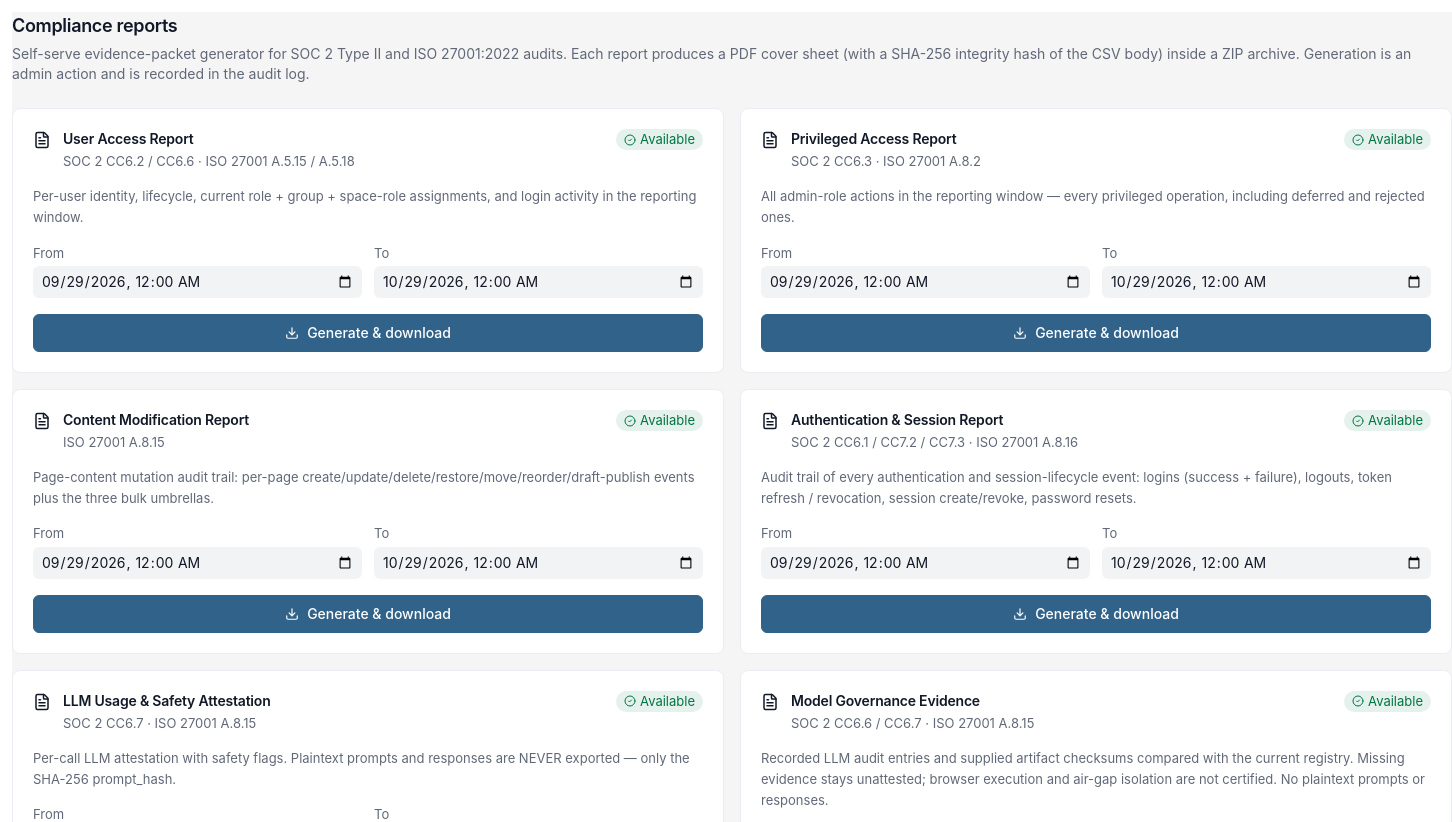
Test: ComplianceReportsTab › rejects ranges where from >= to with an inline validation message
Replace the text in the field with test id "from-user_access" with "2026-04-20T00:00" at [198, 282], box [33,266,362,298]
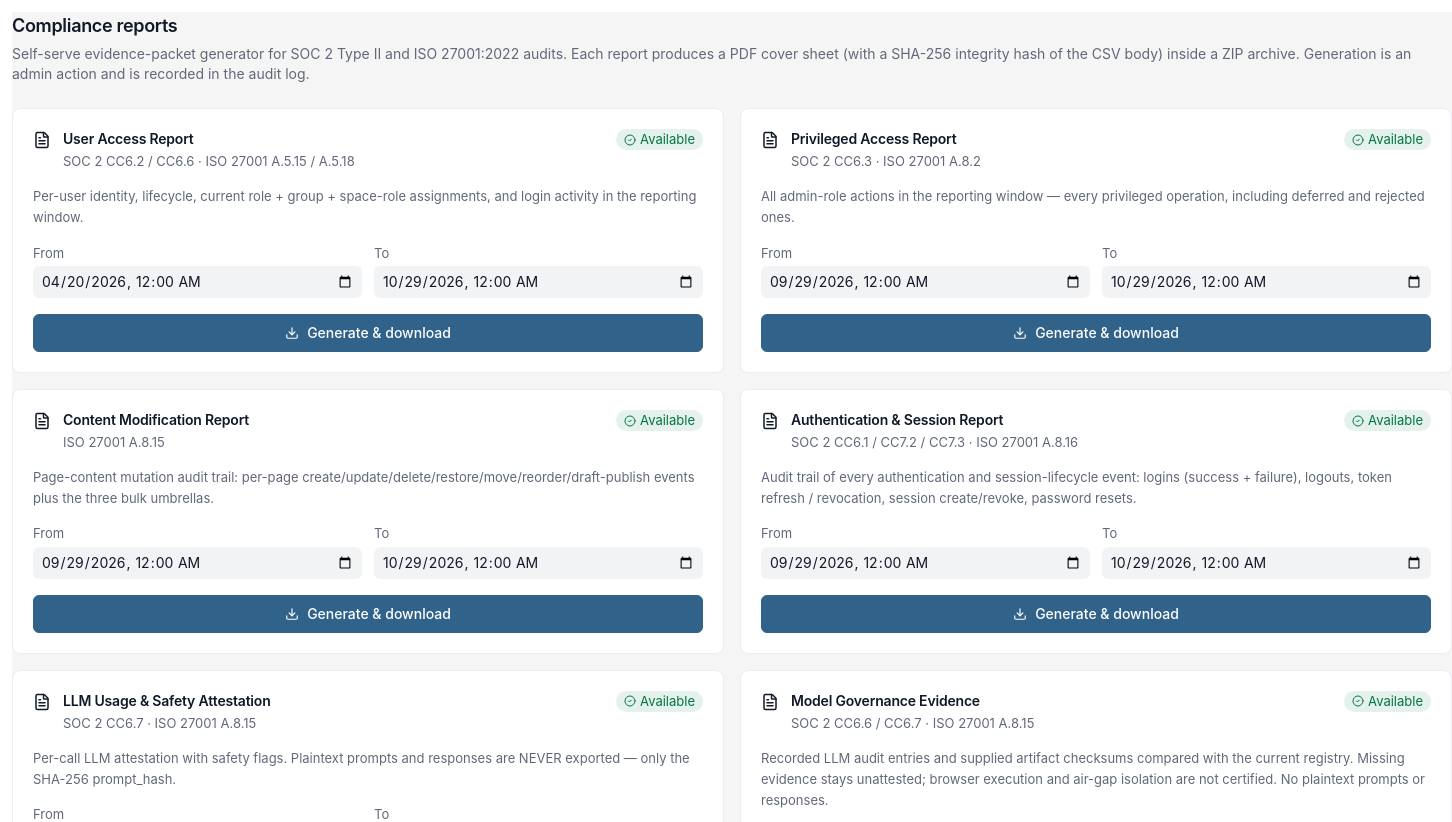
Replace the text in the field with test id "to-user_access" with "2026-04-10T00:00" at [538, 282], box [374,266,703,298]
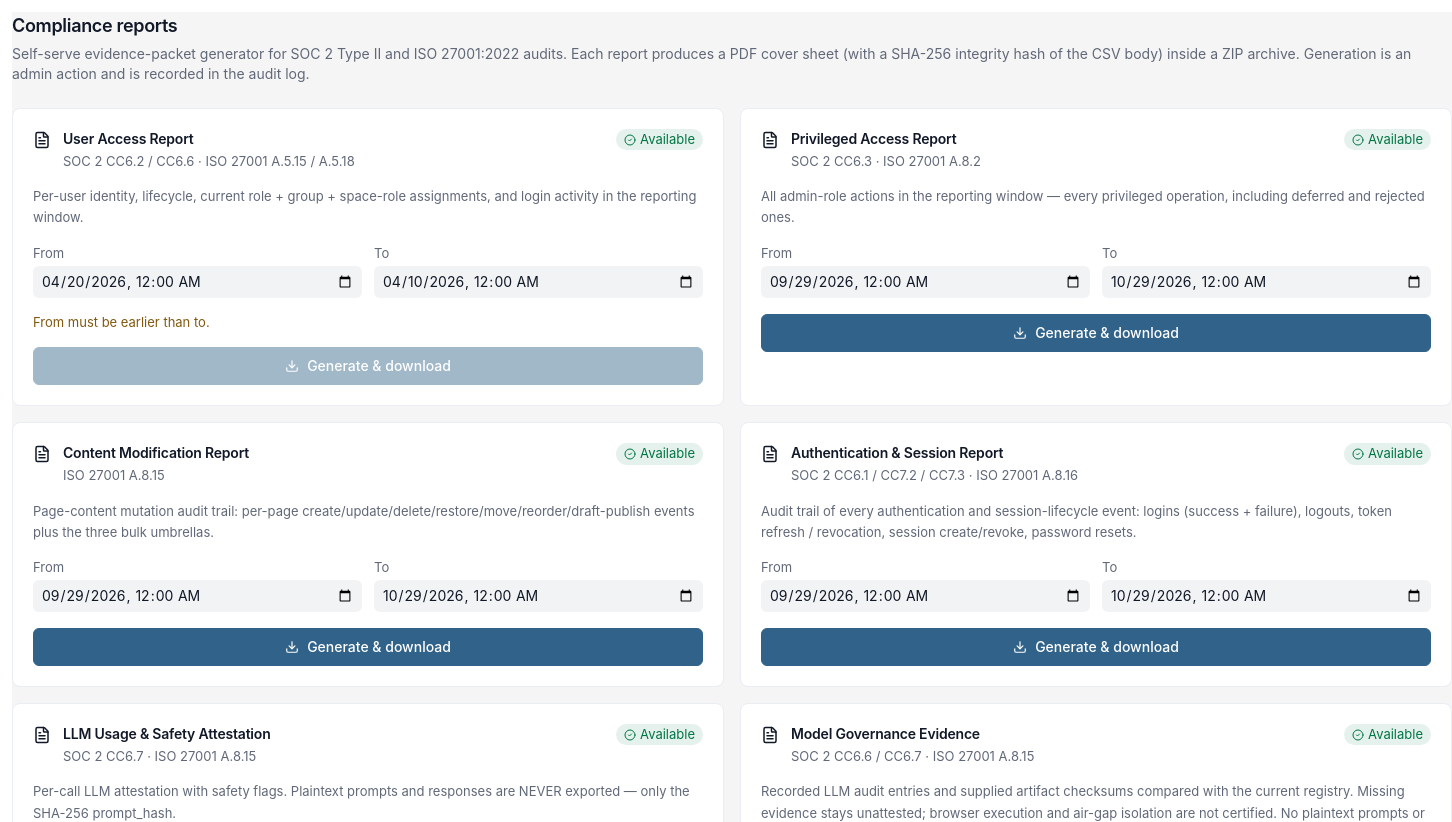
Now the text with test id "validation-error-user_access" shows "From must be earlier than to", box [33,314,210,330]
Now the button with test id "generate-user_access" is disabled, box [33,347,703,385]
